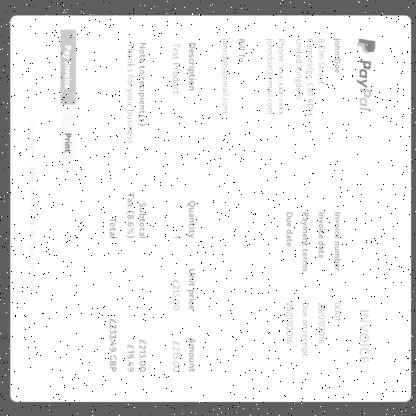Paragraph: (282, 208, 344, 359), (107, 192, 148, 374), (262, 36, 342, 118), (121, 38, 151, 146), (218, 36, 246, 114), (25, 123, 37, 294), (356, 308, 371, 365), (60, 44, 72, 90), (63, 132, 72, 153)
Table: (166, 38, 199, 378)
